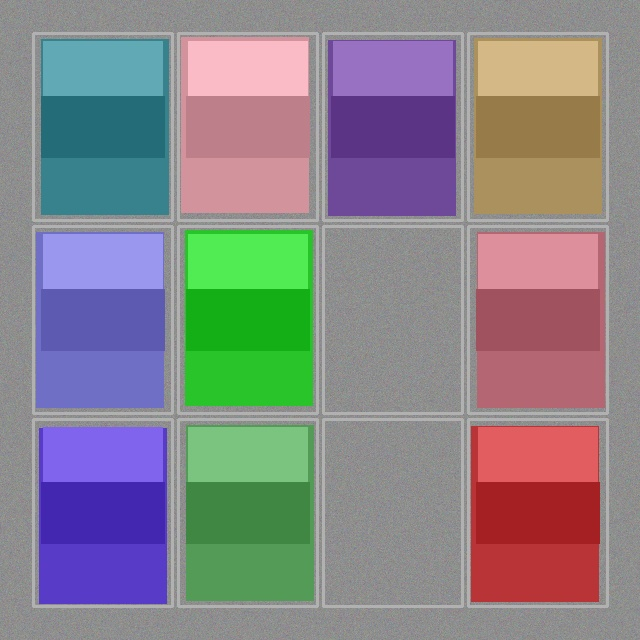space-empty: (325, 228, 460, 411), (325, 421, 460, 604)
space-occupied: (35, 35, 170, 218), (180, 35, 315, 218), (325, 35, 460, 218), (470, 35, 605, 218), (35, 228, 170, 411), (180, 228, 315, 411), (470, 228, 605, 411), (35, 421, 170, 604), (180, 421, 315, 604), (470, 421, 605, 604)
